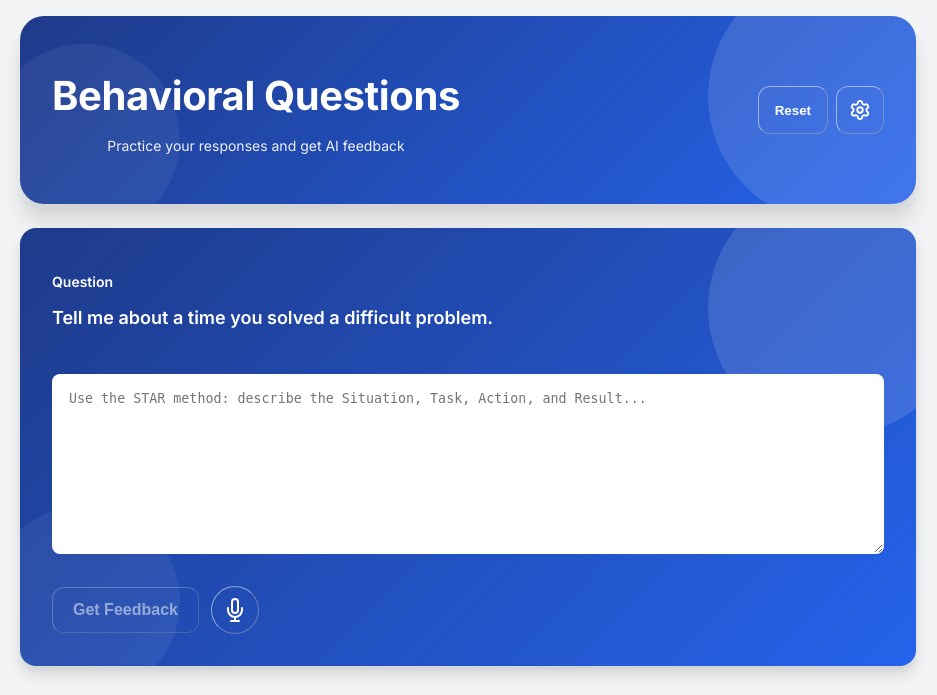
Scenario: InterviewQuestions › Response handling › handles submitting a response
The image size is (937, 695).
Replace the text in the text box with placeholder "Use the STAR method" with "My test response". click: (468, 464)
box: [52,374,884,554]
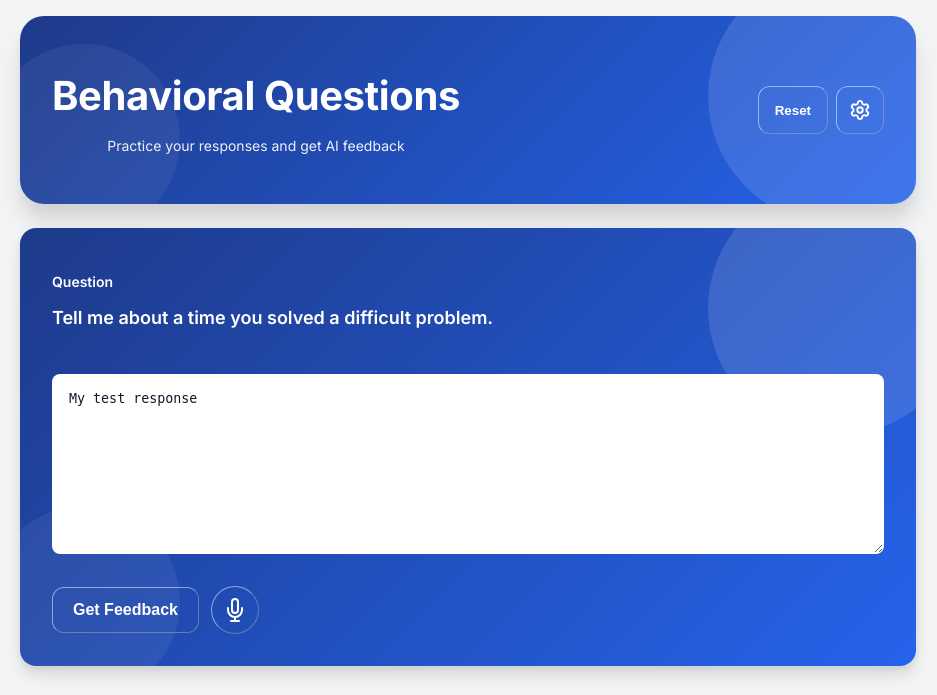
Click the button "Get Feedback". click: (125, 610)
box: [52,587,199,633]
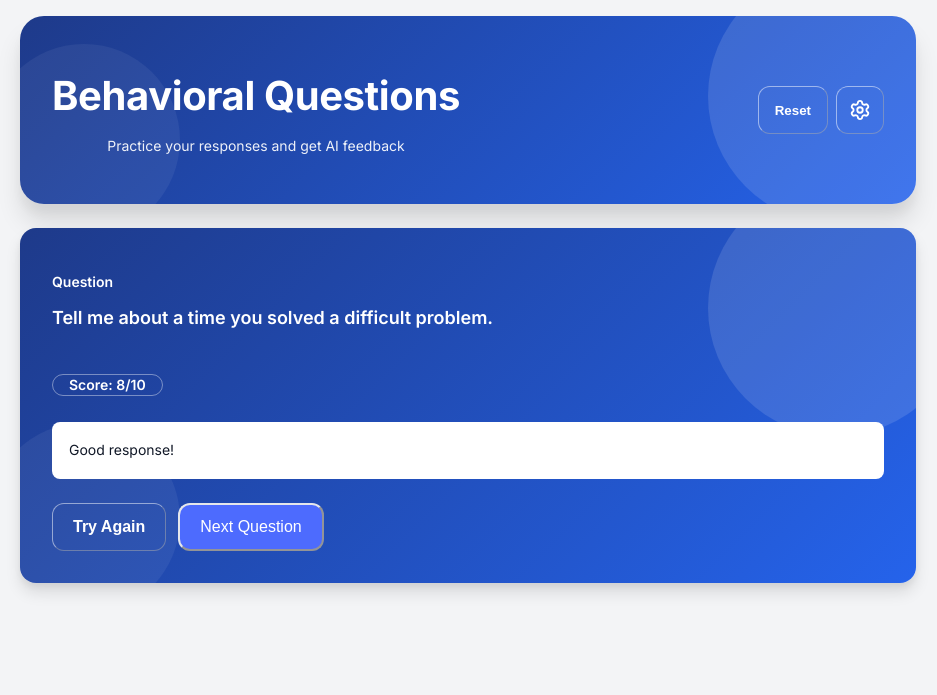
Expected: the text "Score: 8/10" is shown, [52,374,163,396]
Expected: the text "Good response!" is shown, [52,422,884,479]
